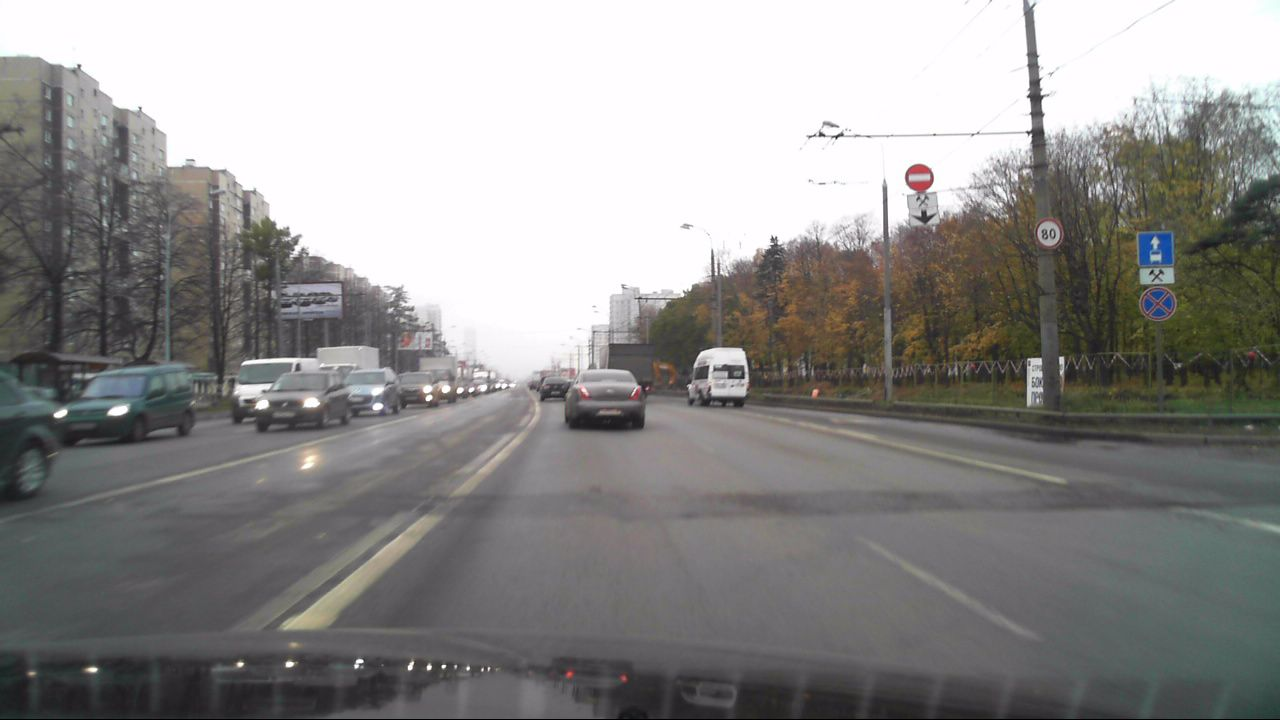No Parking: (1139, 286, 1175, 320)
